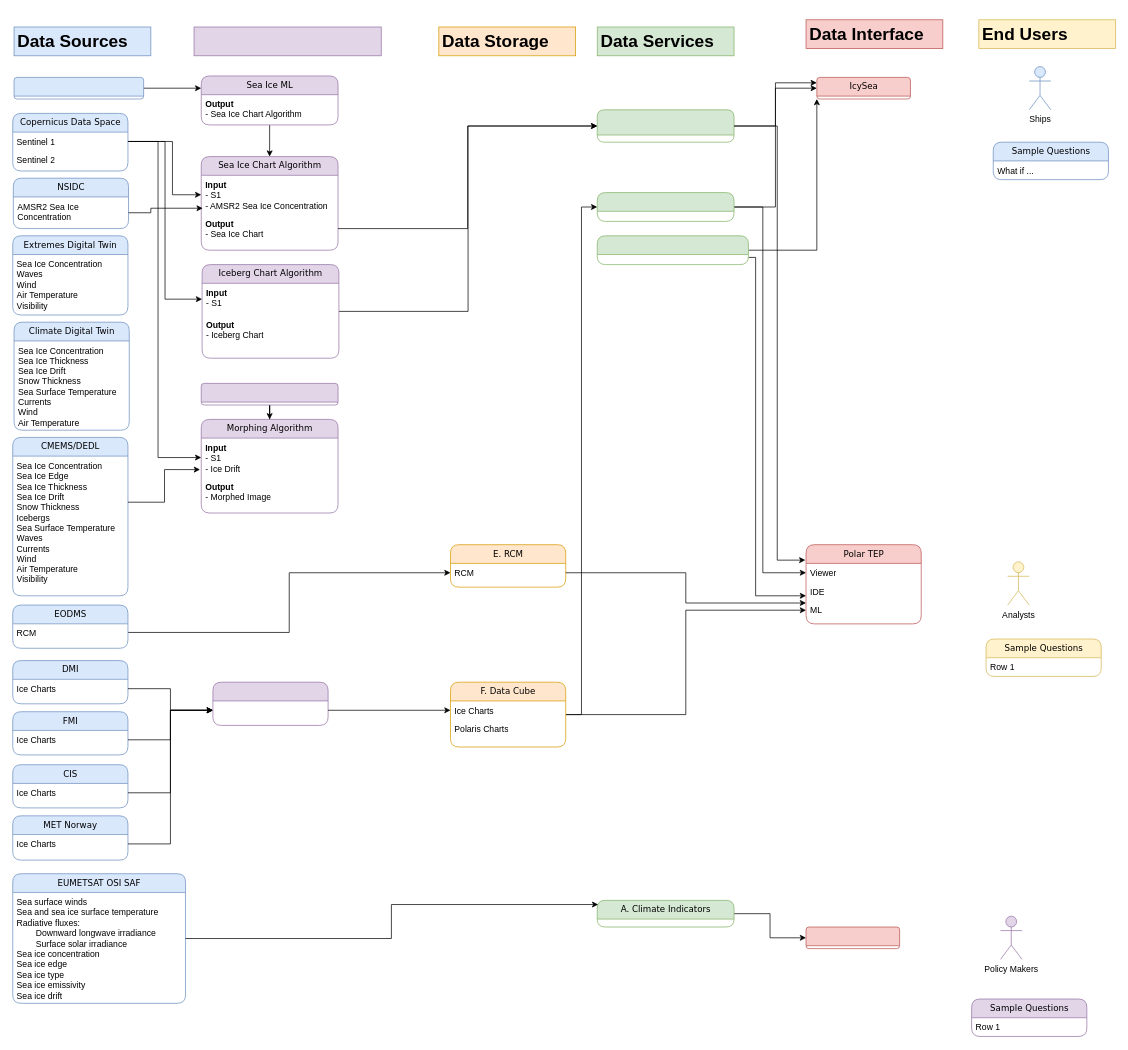
Image size: 1128x1050. Some labels were removed from this diagram. Here are the shapes that lost their labels. From the top down, the centre of each, then its label:
At point 287,41: "Data Transformation".
At point 78,88: "ASIP Training Dataset".
At point 665,125: "B. Automated Charts".
At point 665,206: "C. POLARIS".
At point 672,250: "D. Satellite Image Morphing".
At point 269,394: "NextSIM?".
At point 270,703: "Polaris Algorithm".
At point 852,937: "Polar Dashboard".
